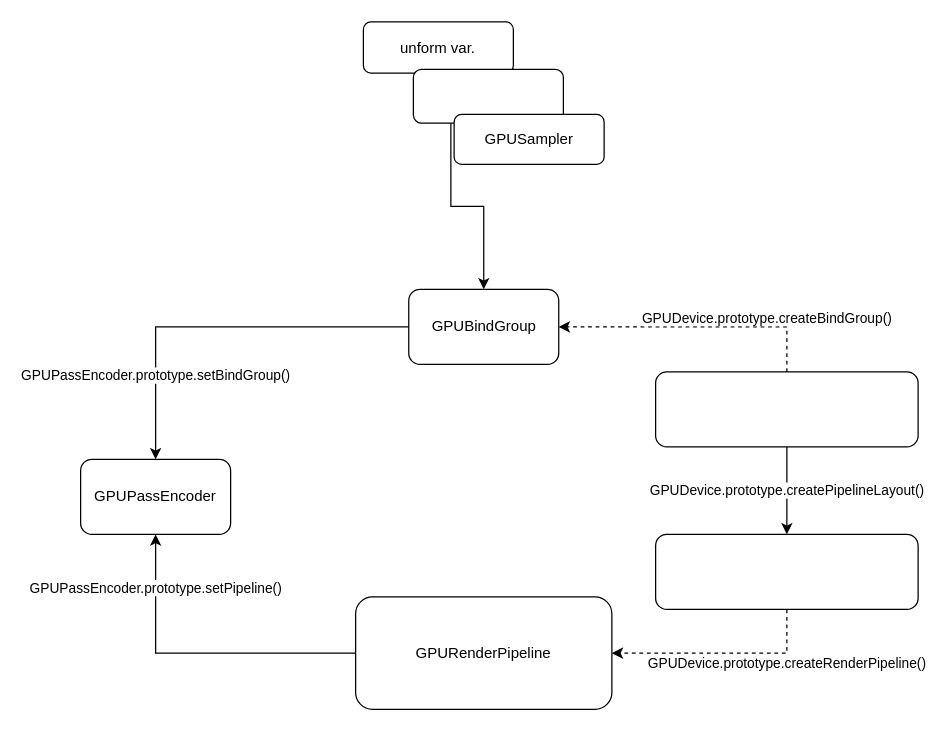
The diagram is 948 pixels wide and 731 high, and some of its shapes have lost their labels. The centre of each missing label's shape, as x and y in pixels:
"GPUBindGroupLayout" goes at [786,409].
"GPUPipelineLayout" goes at [786,571].
"GPUTexture" goes at [487,95].
